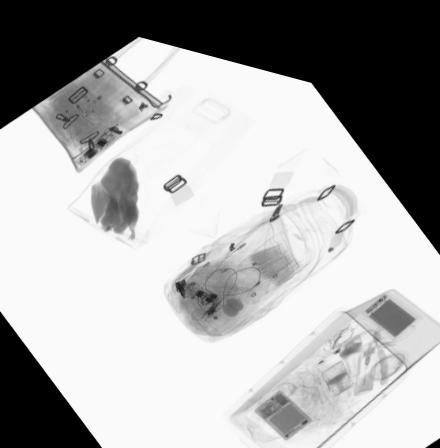Powerbank: (359, 270, 419, 319)
